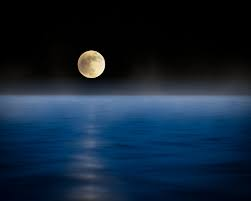moon: (77, 50, 105, 78)
